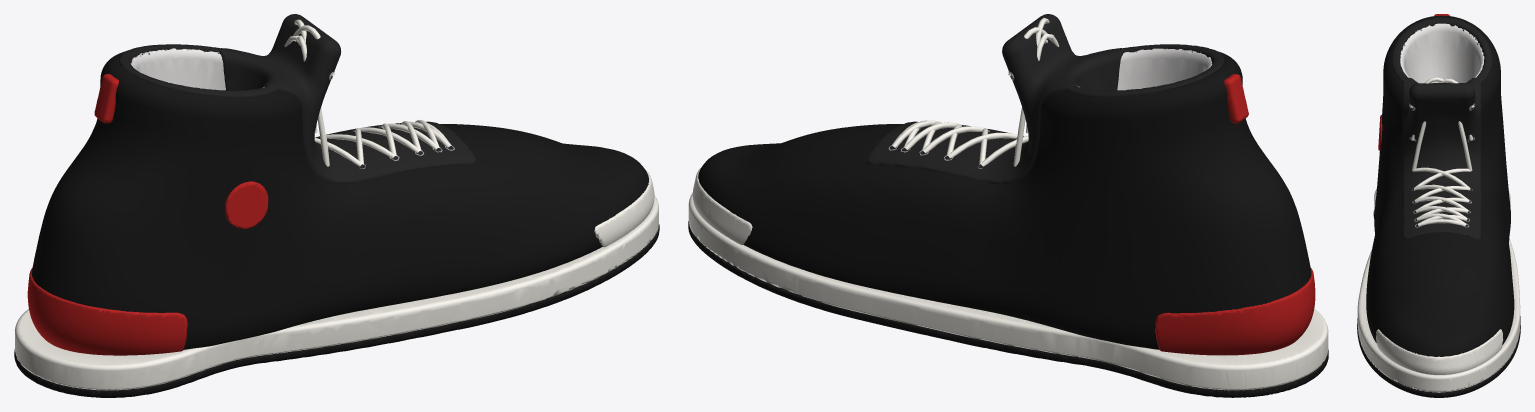
The model's file is phantom-high-top.glb.
The picture shows the model from 3 angles, left to right: view 1: azimuth 30°, elevation 25°; view 2: azimuth 150°, elevation 25°; view 3: azimuth 270°, elevation 25°; orthographic projection. The views are drawn at different scales.
Visible parts, largest first — view 1: upper, midsole, collar, heel_counter, outsole, object 7, lining; view 2: upper, midsole, collar, heel_counter, outsole, object 7, lining; view 3: upper, collar, midsole, lining, object 7, outsole, object 8.
Part boxes in pixels (bbox=[...]): upper: bbox=[31, 49, 648, 349]; midsole: bbox=[15, 170, 658, 390]; collar: bbox=[119, 14, 475, 184]; heel_counter: bbox=[27, 74, 268, 355]; outsole: bbox=[14, 224, 659, 397]; object 7: bbox=[284, 19, 451, 166]; lining: bbox=[130, 48, 264, 90]; upper: bbox=[698, 49, 1311, 349]; midsole: bbox=[688, 168, 1328, 390]; collar: bbox=[867, 14, 1224, 184]; heel_counter: bbox=[1155, 74, 1315, 355]; outsole: bbox=[688, 221, 1328, 397]; object 7: bbox=[891, 18, 1059, 166]; lining: bbox=[1078, 48, 1212, 90]; upper: bbox=[1366, 15, 1514, 356]; collar: bbox=[1391, 17, 1492, 239]; midsole: bbox=[1357, 188, 1520, 392]; lining: bbox=[1400, 23, 1484, 83]; object 7: bbox=[1410, 77, 1474, 226]; outsole: bbox=[1357, 209, 1520, 397]; object 8: bbox=[1409, 103, 1475, 227].
Bounding box in the file's own units: 0.9796 × 0.4344 × 0.3115.
